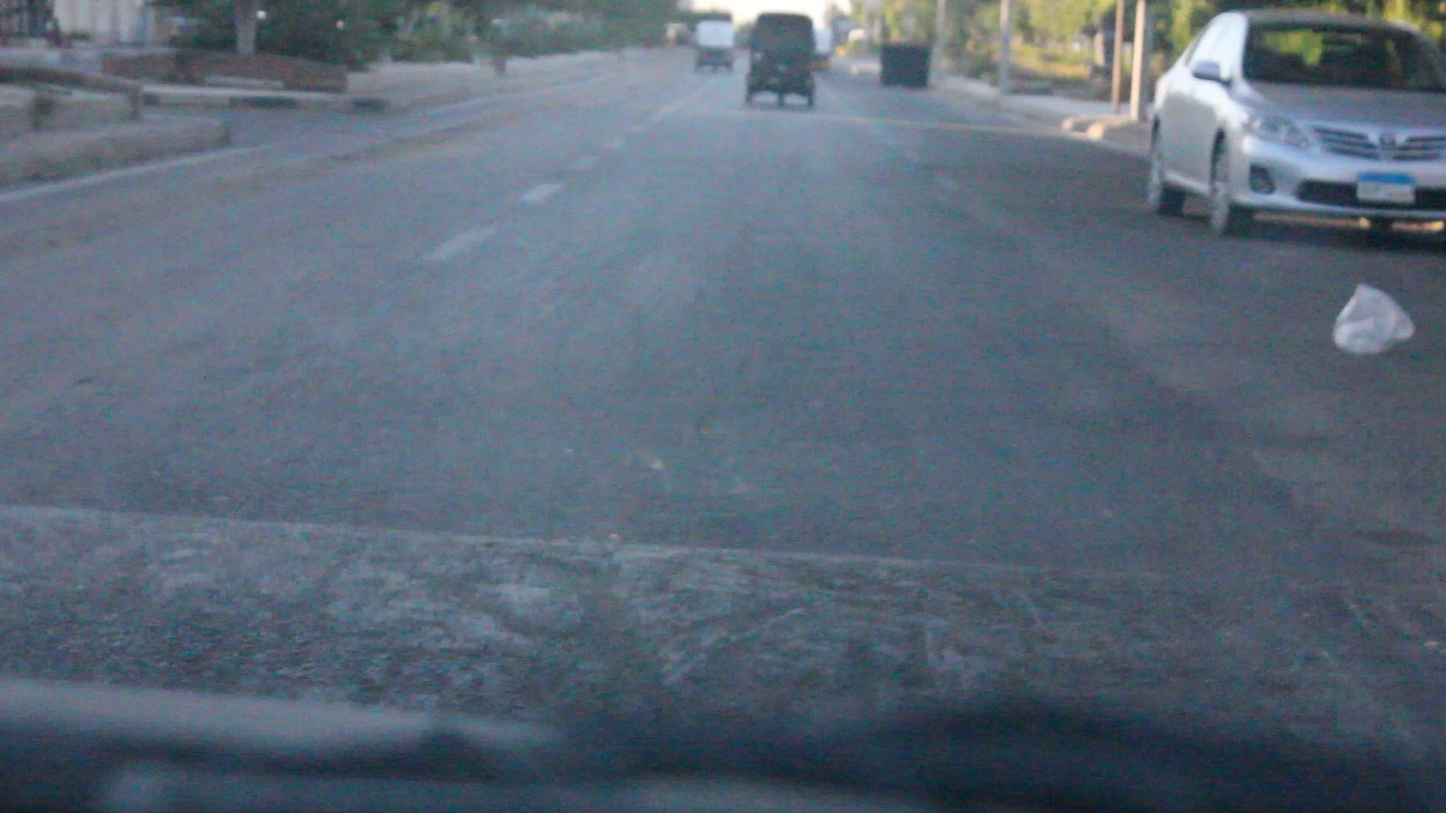Bump: (2, 511, 1445, 812)
